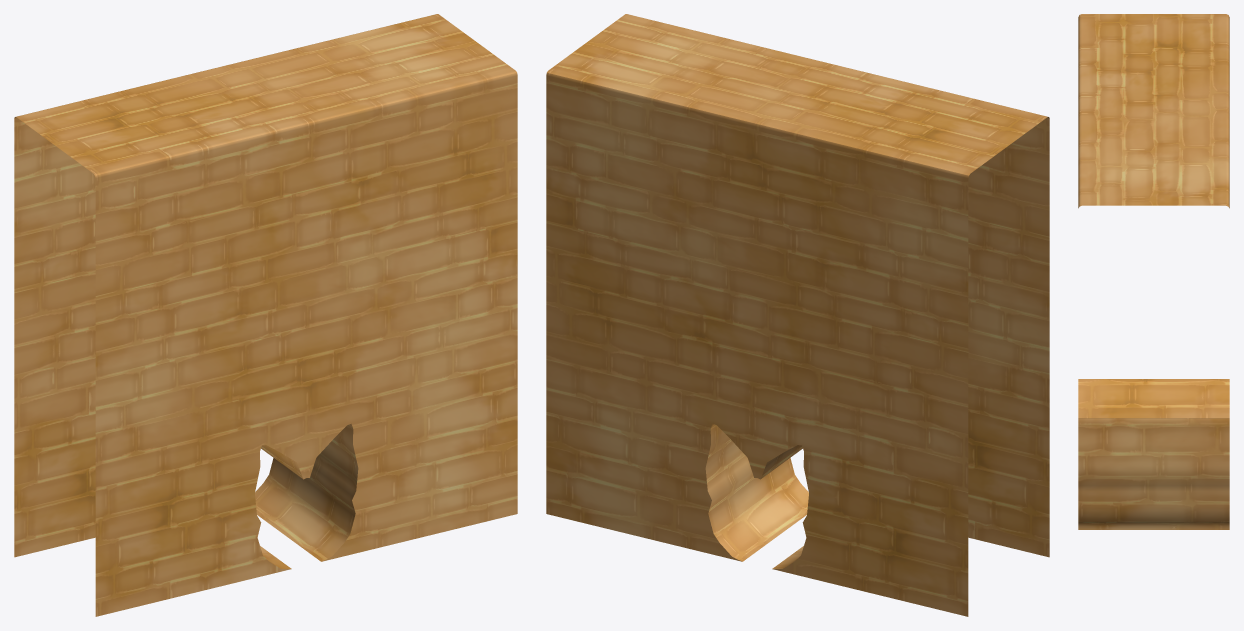
File: SM_Env_Wall_CatHole_Center.fbx
The picture shows the model from 3 angles, left to right: view 1: azimuth 30°, elevation 25°; view 2: azimuth 150°, elevation 25°; view 3: azimuth 270°, elevation 25°; orthographic projection. The views are drawn at different scales.
Parts seen in each view (by area): view 1: Wall_CatHole_Center; view 2: Wall_CatHole_Center; view 3: Wall_CatHole_Center.
Boxes of the visible parts, box(x1,y1,x2,y2) form: Wall_CatHole_Center: box(14, 14, 517, 616); Wall_CatHole_Center: box(546, 14, 1049, 616); Wall_CatHole_Center: box(1078, 14, 1229, 529).
Size of the model in its own units: 300 by 300 by 100.
1 material, 1 textured.
